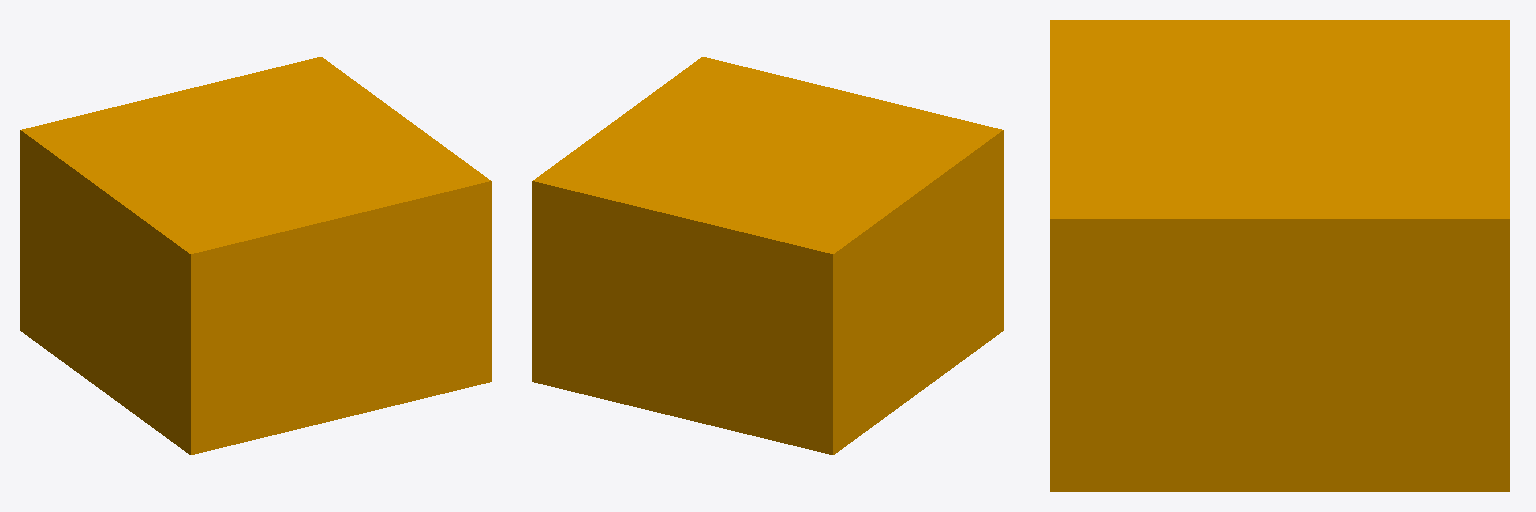
URDF robot description (wooden_low_box):
<?xml version="1.0"?>
<robot name="wooden_low_box">
  <link name="my_box">
    <inertial>
      <origin xyz="0 0 0.0145"/>
      <mass value="0.1" />
      <inertia  ixx="0.0001" ixy="0.0"  ixz="0.0"  iyy="0.0001"  iyz="0.0"  izz="0.0001" />
    </inertial>
    <visual>
      <origin xyz="-0.23 0 0.215"/>
      <geometry>
        <box size="0.47 0.46 0.3"/>
      </geometry>
    </visual>
    <collision>
      <origin xyz="-0.23 0 0.215"/>
      <geometry>
        <box size="0.47 0.46 0.3"/>
      </geometry>
    </collision>
  </link>
  <gazebo reference="my_box">
    <material>Gazebo/Wood</material>
  </gazebo>
  <gazebo>
    <static>true</static>
  </gazebo>
</robot>

--- Facts derived from the render (not from the file) ---
Views: 3 orthographic renders of the robot side by side, from view 1: azimuth 30°, elevation 25°; view 2: azimuth 150°, elevation 25°; view 3: azimuth 270°, elevation 25°.
Robot: wooden_low_box — 1 links, 0 joints (none); root link my_box; default pose: all joints at 0.
Links seen in each view (by area): view 1: my_box; view 2: my_box; view 3: my_box.
Link boxes in pixels (bbox=[...]): my_box: bbox=[20, 57, 491, 454]; my_box: bbox=[532, 57, 1003, 454]; my_box: bbox=[1050, 20, 1509, 491].
Size in the robot's own frame: 0.47 by 0.46 by 0.3 metres.
Geometry: primitives only (box / cylinder / sphere), no mesh files.